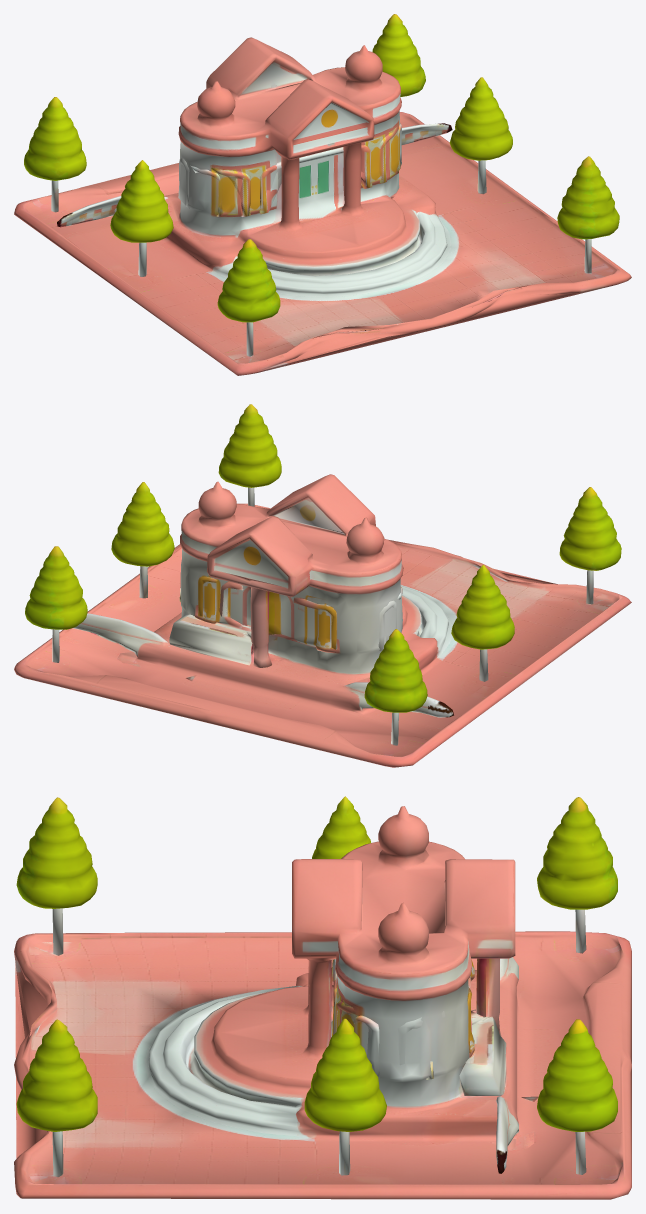
File: hub_theatre.glb
3 views of the same model, one above another, from view 1: azimuth 30°, elevation 25°; view 2: azimuth 150°, elevation 25°; view 3: azimuth 270°, elevation 25° (orthographic). The views are drawn at different scales.
Bounding box in the file's own units: 1.91 × 0.7358 × 1.91.
Materials: 1 (1 with a texture image).
